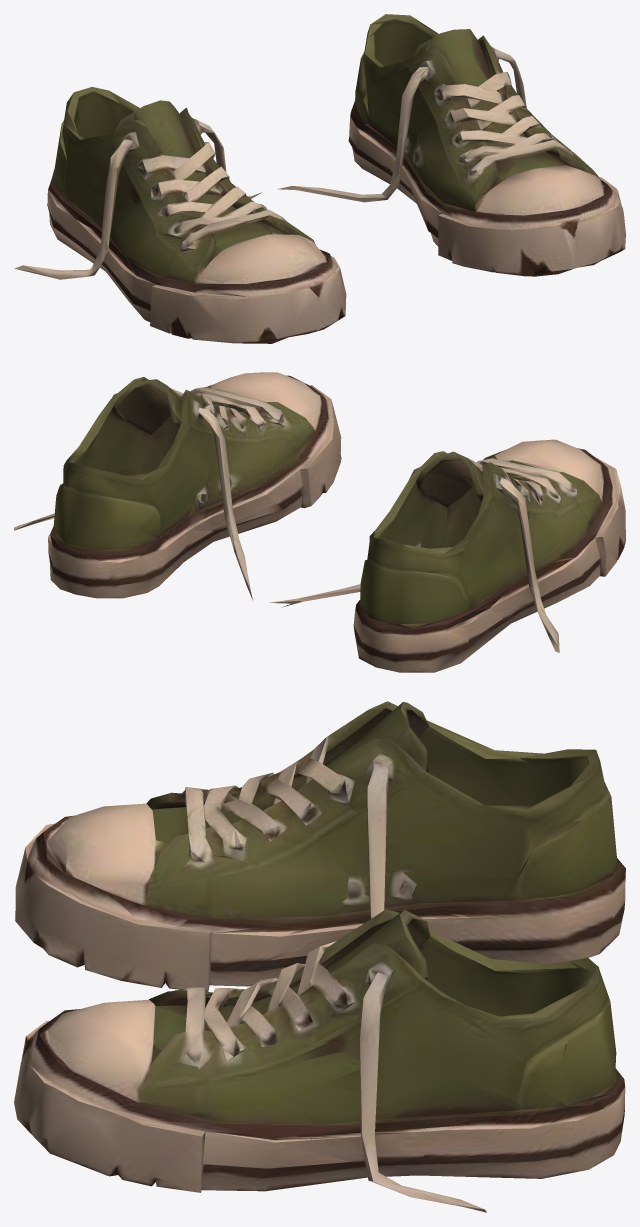
The model's file is cloth_boots_krossovki_idle.glb.
The picture shows the model from 3 angles, top to bottom: view 1: azimuth 30°, elevation 25°; view 2: azimuth 150°, elevation 25°; view 3: azimuth 270°, elevation 25°; orthographic projection. The views are drawn at different scales.
Visible parts, largest first — view 1: tripo_node_ff8c98b2-31de-4c1e-a32f-d9112693fb90; view 2: tripo_node_ff8c98b2-31de-4c1e-a32f-d9112693fb90; view 3: tripo_node_ff8c98b2-31de-4c1e-a32f-d9112693fb90.
Boxes of the visible parts, x1,y1,x2,y2 form: tripo_node_ff8c98b2-31de-4c1e-a32f-d9112693fb90: (14, 14, 625, 343); tripo_node_ff8c98b2-31de-4c1e-a32f-d9112693fb90: (14, 372, 625, 672); tripo_node_ff8c98b2-31de-4c1e-a32f-d9112693fb90: (14, 701, 625, 1212).
Bounding box in the file's own units: 0.2988 × 0.0869 × 0.2086.
Materials: 1 (1 with a texture image).
